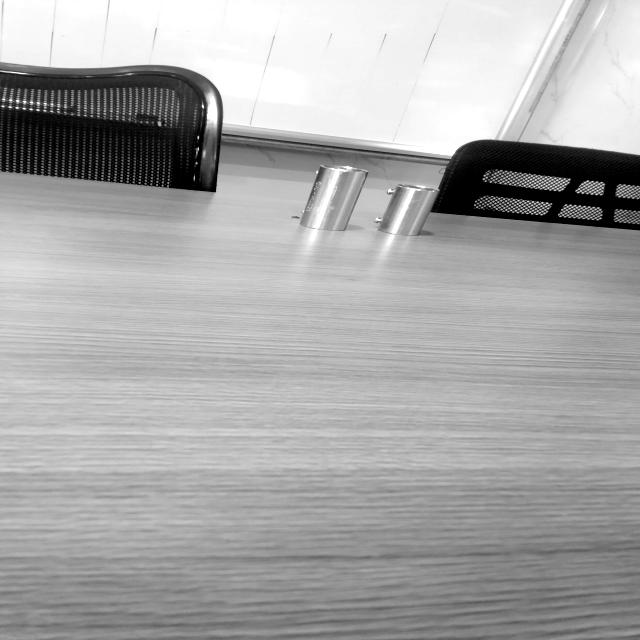Co_Lon: (297, 154, 368, 241)
Co_Nho: (377, 174, 439, 246)
